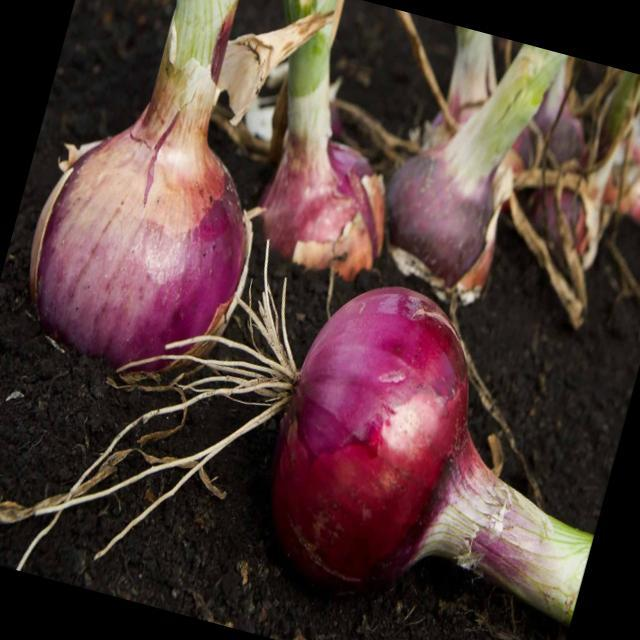ONIONS: (248, 264, 640, 631), (13, 80, 286, 356)
